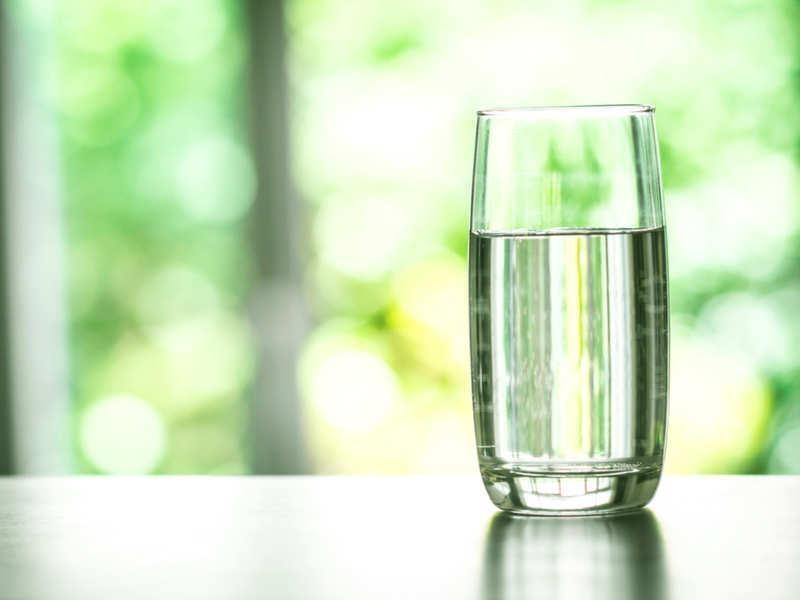glass-normal: (465, 101, 675, 516)
